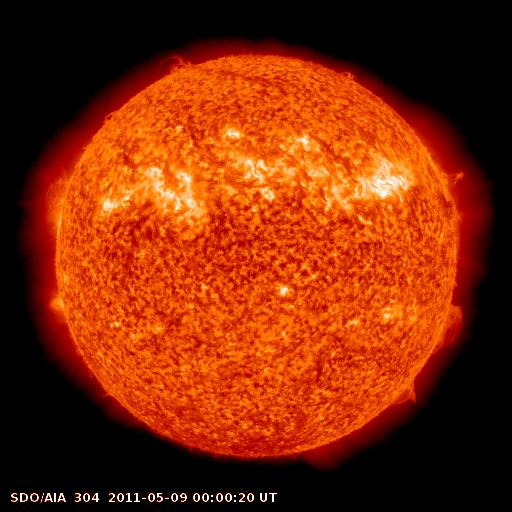prominence: (424, 298, 475, 365), (151, 44, 205, 82), (380, 374, 423, 415), (435, 163, 475, 197), (96, 100, 126, 127), (338, 63, 360, 83)
